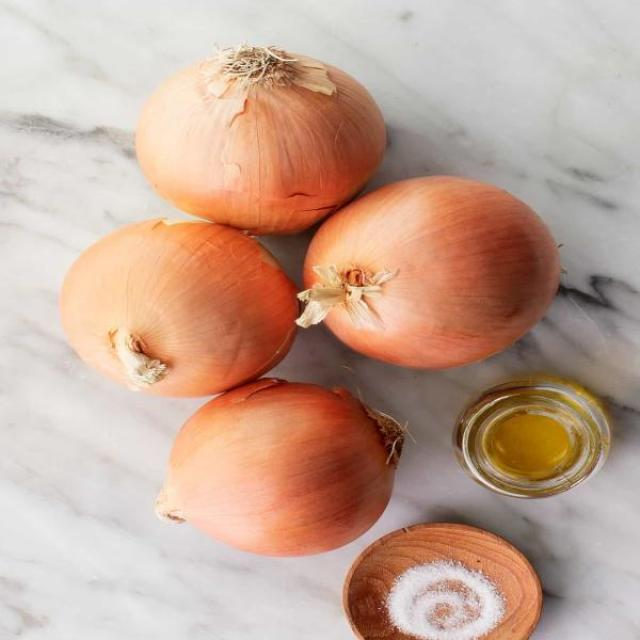Onion: (298, 175, 563, 373), (135, 45, 389, 239), (154, 378, 405, 559), (59, 220, 303, 399)
